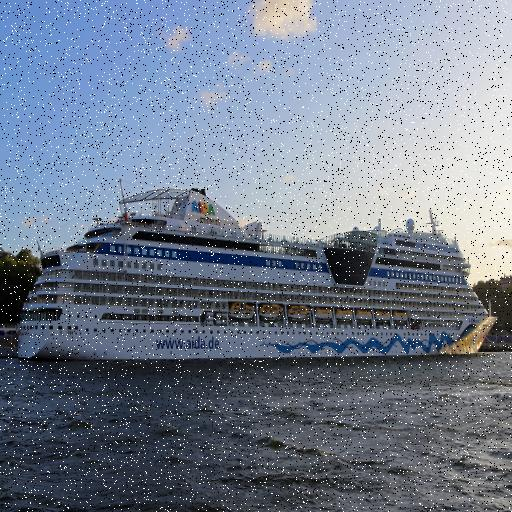cruises: (13, 174, 500, 368)
